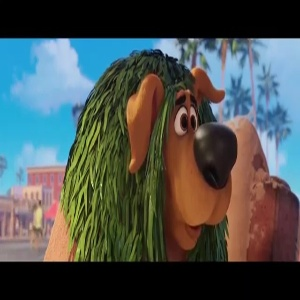Scooby: (124, 60, 244, 241)
